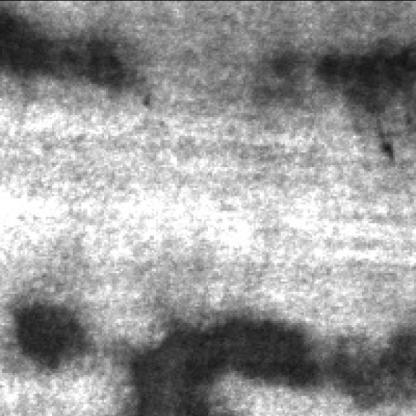patches: (119, 308, 352, 416), (3, 12, 141, 102), (312, 40, 416, 140), (12, 297, 104, 375), (339, 329, 416, 416)
